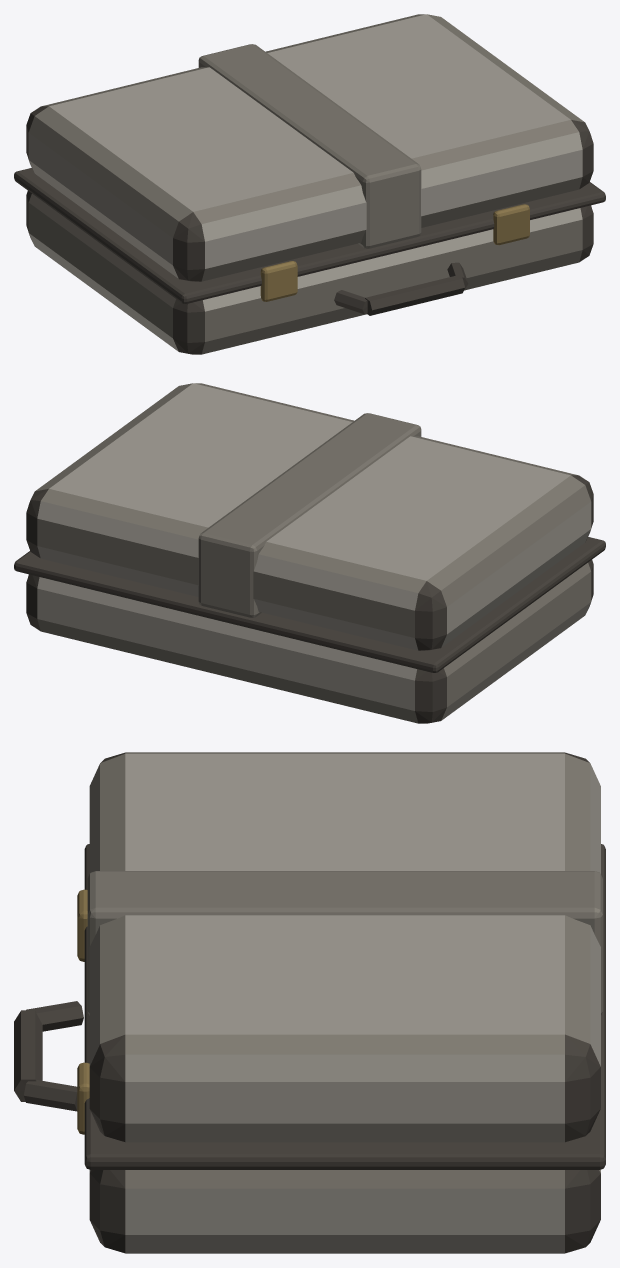
File: suitcase.glb
The picture shows the model from 3 angles, top to bottom: view 1: azimuth 30°, elevation 25°; view 2: azimuth 150°, elevation 25°; view 3: azimuth 270°, elevation 25°; orthographic projection. The views are drawn at different scales.
Parts seen in each view (by area): view 1: lid, suitcase; view 2: lid, suitcase; view 3: lid, suitcase.
Boxes of the visible parts, x1=… form: lid: x1=26, y1=14, x2=593, y2=281; suitcase: x1=14, y1=168, x2=605, y2=354; lid: x1=26, y1=383, x2=593, y2=650; suitcase: x1=14, y1=537, x2=605, y2=723; lid: x1=87, y1=752, x2=602, y2=1142; suitcase: x1=14, y1=844, x2=605, y2=1253.
Bounding box in the file's own units: 0.73 × 0.24 × 0.579.
